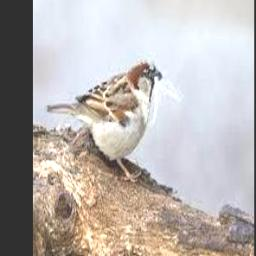Sparrow: (46, 58, 163, 181)
